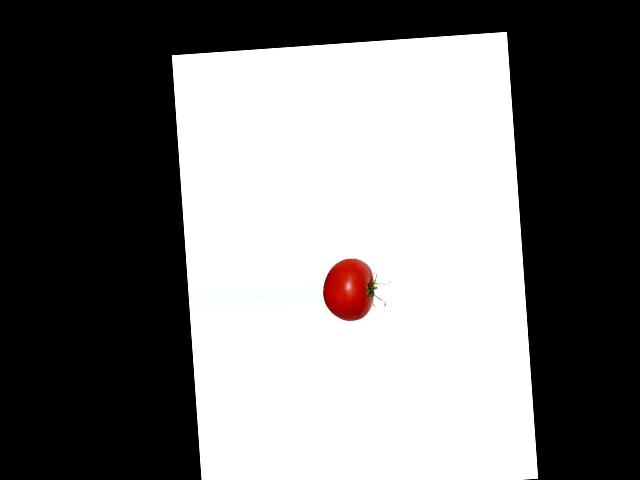tomato: (321, 257, 376, 321)
